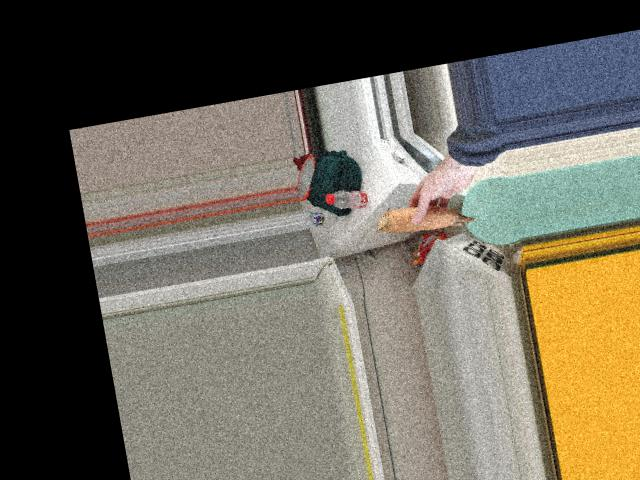sweet_potato: (370, 194, 468, 236)
